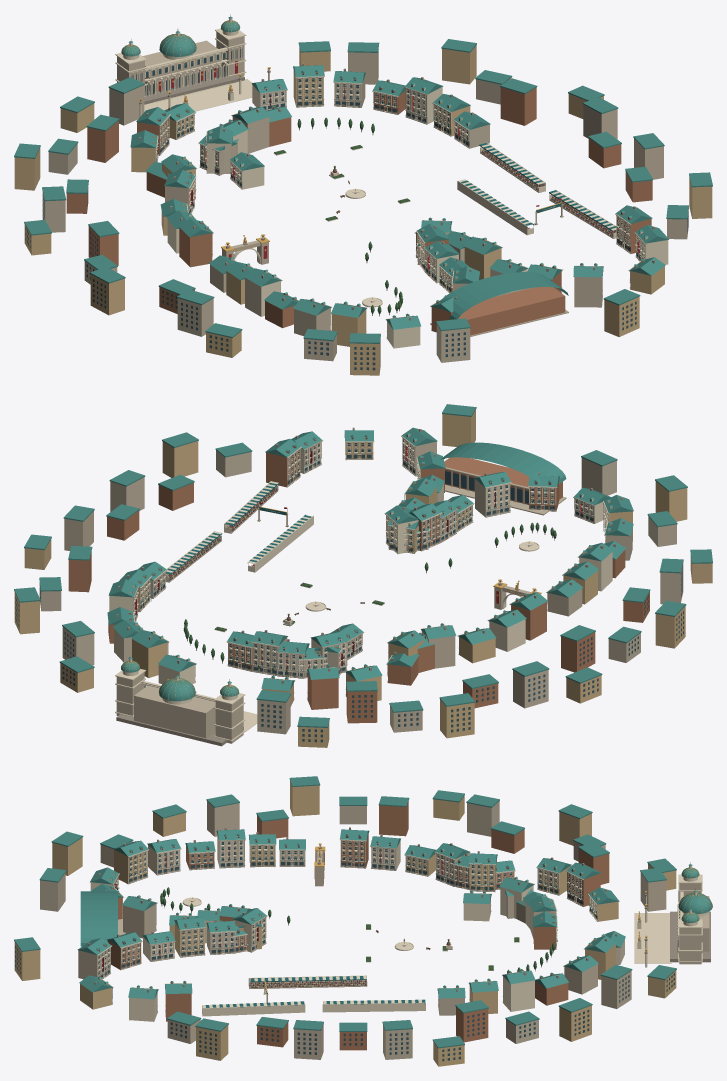
The model's file is stadium-world.glb.
3 renders of one model, top to bottom at view 1: azimuth 30°, elevation 25°; view 2: azimuth 150°, elevation 25°; view 3: azimuth 270°, elevation 25°, orthographic. The views are drawn at different scales.
Parts seen in each view (by area): view 1: Architecture / Oxidised copper roof, Architecture / Warm limestone, Architecture / Carved ivory stone, Architecture / Ochre render limestone, Architecture / Terracotta render, Architecture / Recessed blue glass, Architecture / Sandstone shadow, Architecture / Striped canopy cloth, Architecture / Ivory enamel, Architecture / Brushed champagne brass; view 2: Architecture / Oxidised copper roof, Architecture / Warm limestone, Architecture / Ochre render limestone, Architecture / Carved ivory stone, Architecture / Terracotta render, Architecture / Recessed blue glass, Architecture / Sandstone shadow, Architecture / Striped canopy cloth, Architecture / Ivory enamel, Architecture / Brushed champagne brass, Architecture / Cypress foliage; view 3: Architecture / Oxidised copper roof, Architecture / Carved ivory stone, Architecture / Warm limestone, Architecture / Ochre render limestone, Architecture / Terracotta render, Architecture / Recessed blue glass, Architecture / Sandstone shadow, Architecture / Striped canopy cloth, Architecture / Ivory enamel, Architecture / Brushed champagne brass, Architecture / Oiled stadium wood.
Boxes of the visible parts, box(x1,y1,x2,y2) form: Architecture / Oxidised copper roof: box(14, 16, 712, 343); Architecture / Warm limestone: box(42, 32, 688, 362); Architecture / Carved ivory stone: box(115, 18, 668, 348); Architecture / Ochre render limestone: box(14, 45, 712, 375); Architecture / Terracotta render: box(66, 87, 652, 335); Architecture / Recessed blue glass: box(25, 49, 688, 370); Architecture / Sandstone shadow: box(133, 47, 654, 331); Architecture / Striped canopy cloth: box(156, 98, 644, 286); Architecture / Ivory enamel: box(156, 98, 644, 285); Architecture / Brushed champagne brass: box(121, 14, 639, 299); Architecture / Oxidised copper roof: box(14, 404, 712, 727); Architecture / Warm limestone: box(39, 435, 683, 743); Architecture / Ochre render limestone: box(14, 409, 712, 747); Architecture / Carved ivory stone: box(109, 435, 612, 741); Architecture / Terracotta render: box(68, 446, 649, 723); Architecture / Recessed blue glass: box(15, 435, 683, 742); Architecture / Sandstone shadow: box(116, 427, 624, 746); Architecture / Striped canopy cloth: box(135, 452, 605, 670); Architecture / Ivory enamel: box(134, 452, 605, 670); Architecture / Brushed champagne brass: box(121, 449, 581, 700); Architecture / Cypress foliage: box(183, 522, 556, 672); Architecture / Oxidised copper roof: box(14, 776, 712, 1048); Architecture / Carved ivory stone: box(90, 835, 709, 1021); Architecture / Warm limestone: box(40, 801, 709, 1059); Architecture / Ochre render limestone: box(14, 781, 676, 1066); Architecture / Terracotta render: box(107, 801, 609, 1050); Architecture / Recessed blue glass: box(15, 836, 674, 1061); Architecture / Sandstone shadow: box(87, 827, 710, 1012); Architecture / Striped canopy cloth: box(98, 859, 596, 1007); Architecture / Ivory enamel: box(98, 859, 596, 1008); Architecture / Brushed champagne brass: box(192, 843, 712, 994); Architecture / Oiled stadium wood: box(104, 862, 575, 987).
Bounding box in the file's own units: 362 × 35 × 410.
